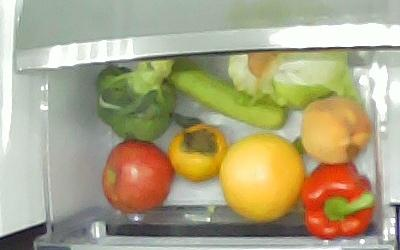apple: (101, 141, 174, 210)
broccoli: (94, 54, 175, 143)
cucumber: (166, 58, 288, 130)
grapefruit: (220, 132, 304, 222)
lettuce: (229, 47, 357, 107)
paprika: (302, 161, 375, 239)
peach: (301, 98, 371, 165)
persimmon: (166, 125, 228, 184)
